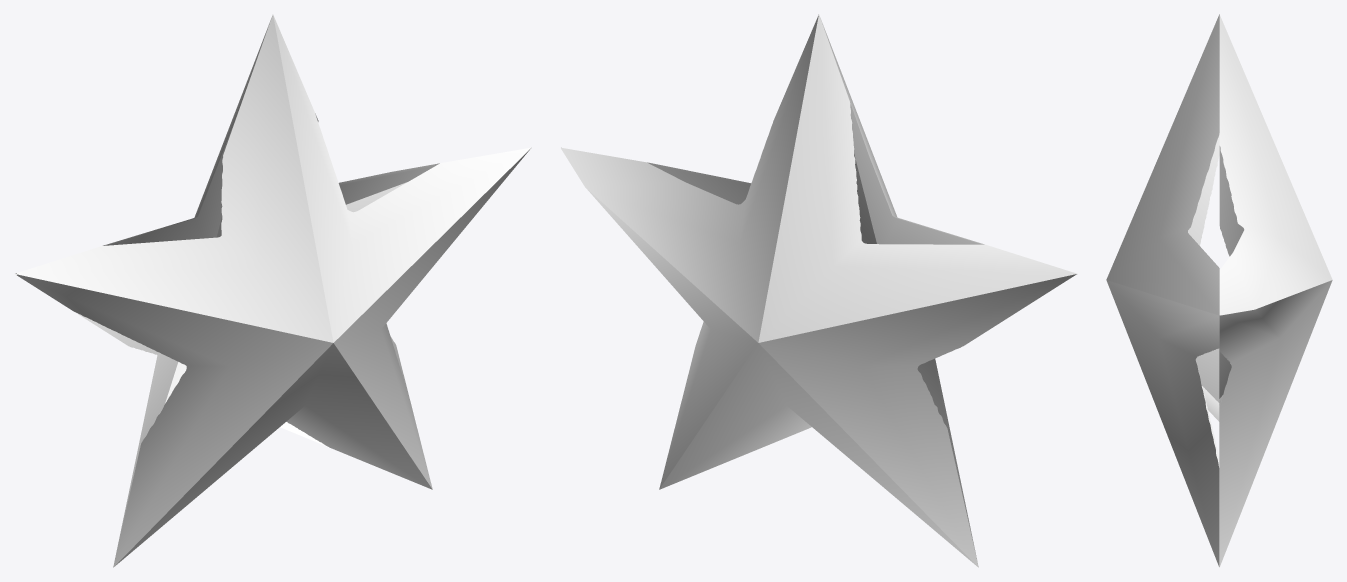
File: star.fbx
3 renders of one model, left to right at view 1: azimuth 30°, elevation 25°; view 2: azimuth 150°, elevation 25°; view 3: azimuth 270°, elevation 25°, orthographic. The views are drawn at different scales.
Parts seen in each view (by area): view 1: star; view 2: star; view 3: star.
Part boxes in pixels (<box>): star: <box>14,14,531,567</box>; star: <box>561,14,1077,567</box>; star: <box>1106,14,1332,567</box>.
Size of the model in its own units: 0.3351 by 0.3187 by 0.1359.
